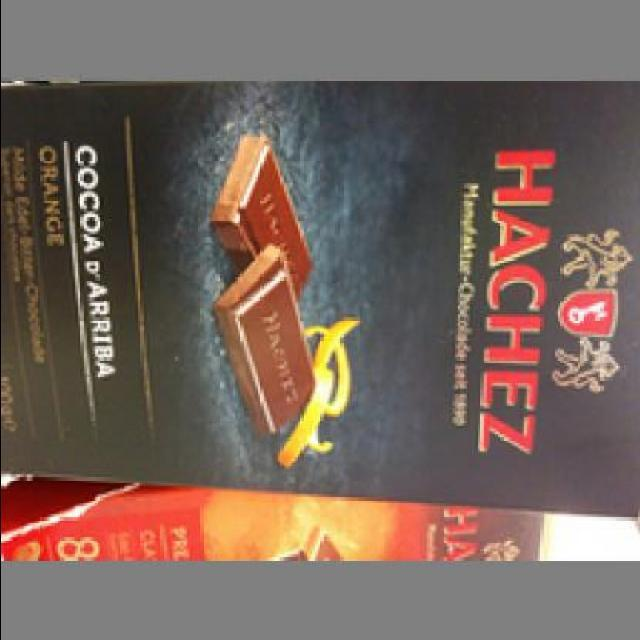Chocolate bar: (3, 77, 639, 509)
